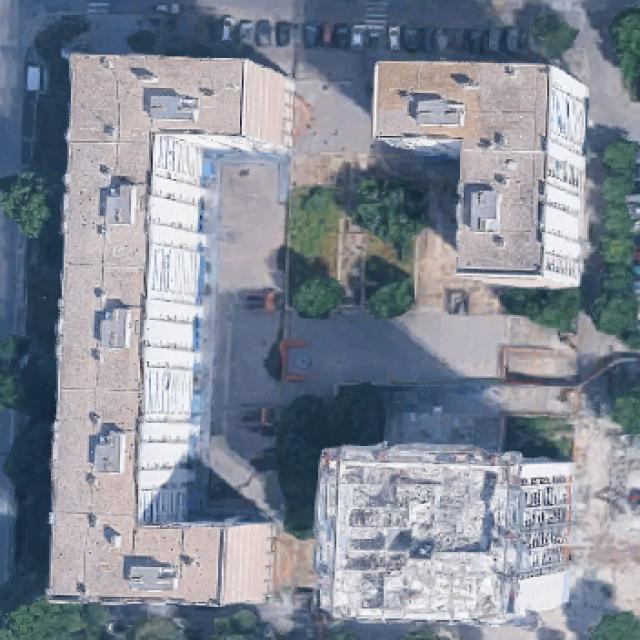immeuble: (42, 50, 295, 610), (312, 439, 571, 626), (373, 61, 585, 285)
